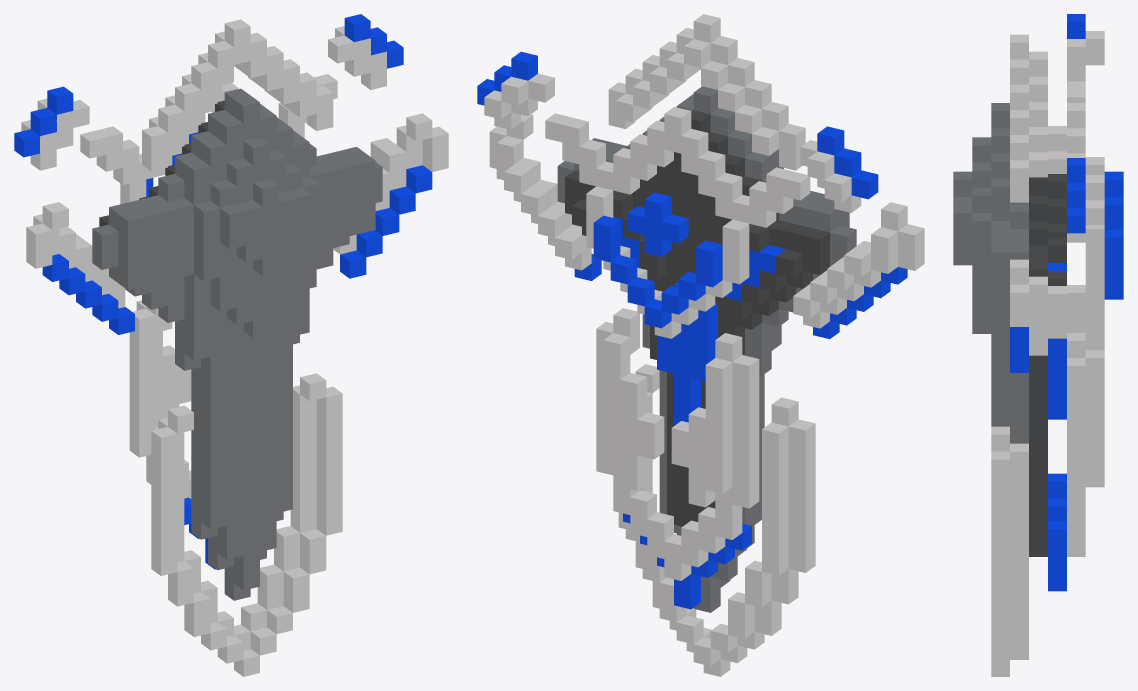
Rendered from 防护盾.gltf.
3 views of the same model, side by side, from view 1: azimuth 30°, elevation 25°; view 2: azimuth 150°, elevation 25°; view 3: azimuth 270°, elevation 25° (orthographic). The views are drawn at different scales.
Visible parts, largest first — view 1: Object; view 2: Object; view 3: Object.
Part boxes in pixels (x1,y1,x2,y2): Object: (14,14,448,676); Object: (477,14,924,676); Object: (953,14,1123,676).
Bounding box in the file's own units: 25 × 37 × 9.
Materials: 1 (1 with a texture image).
